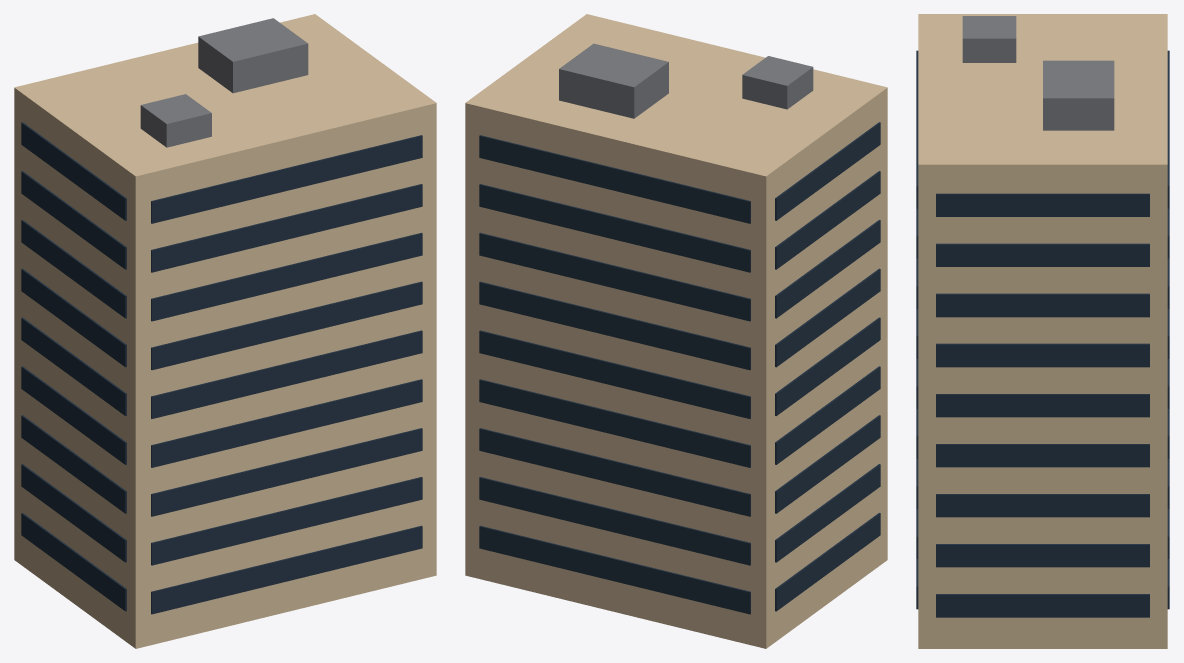
Rendered from building.glb.
3 renders of one model, left to right at view 1: azimuth 30°, elevation 25°; view 2: azimuth 150°, elevation 25°; view 3: azimuth 270°, elevation 25°, orthographic. The views are drawn at different scales.
Parts seen in each view (by area): view 1: building; view 2: building; view 3: building.
Part boxes in pixels (bbox=[...]): building: bbox=[14, 14, 436, 648]; building: bbox=[465, 14, 887, 648]; building: bbox=[916, 14, 1169, 648].
Bounding box in the file's own units: 20.22 × 32 × 14.22.
